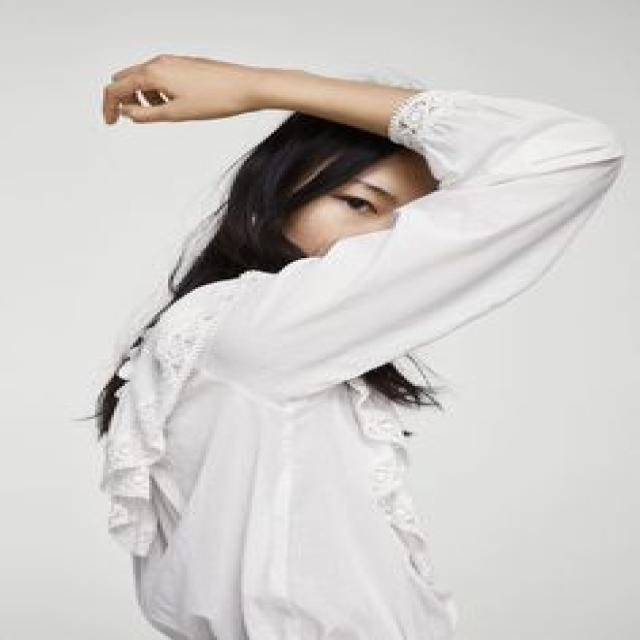7_mano_rostro: (300, 71, 535, 338)
